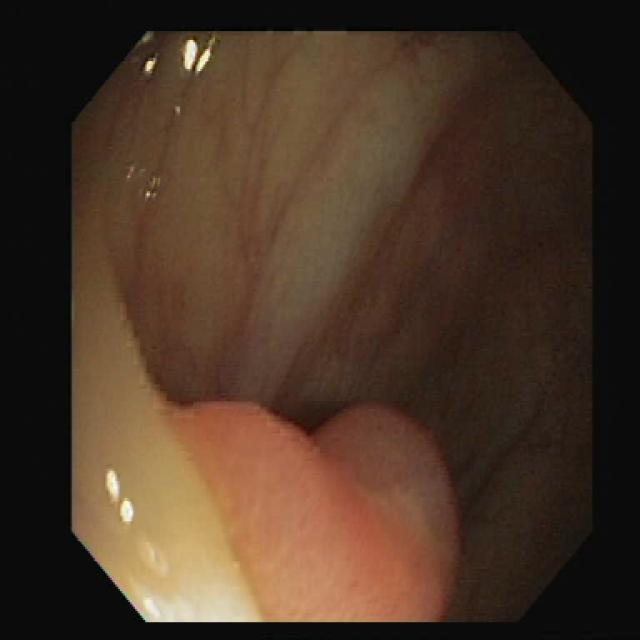tumor: (173, 398, 461, 618)
